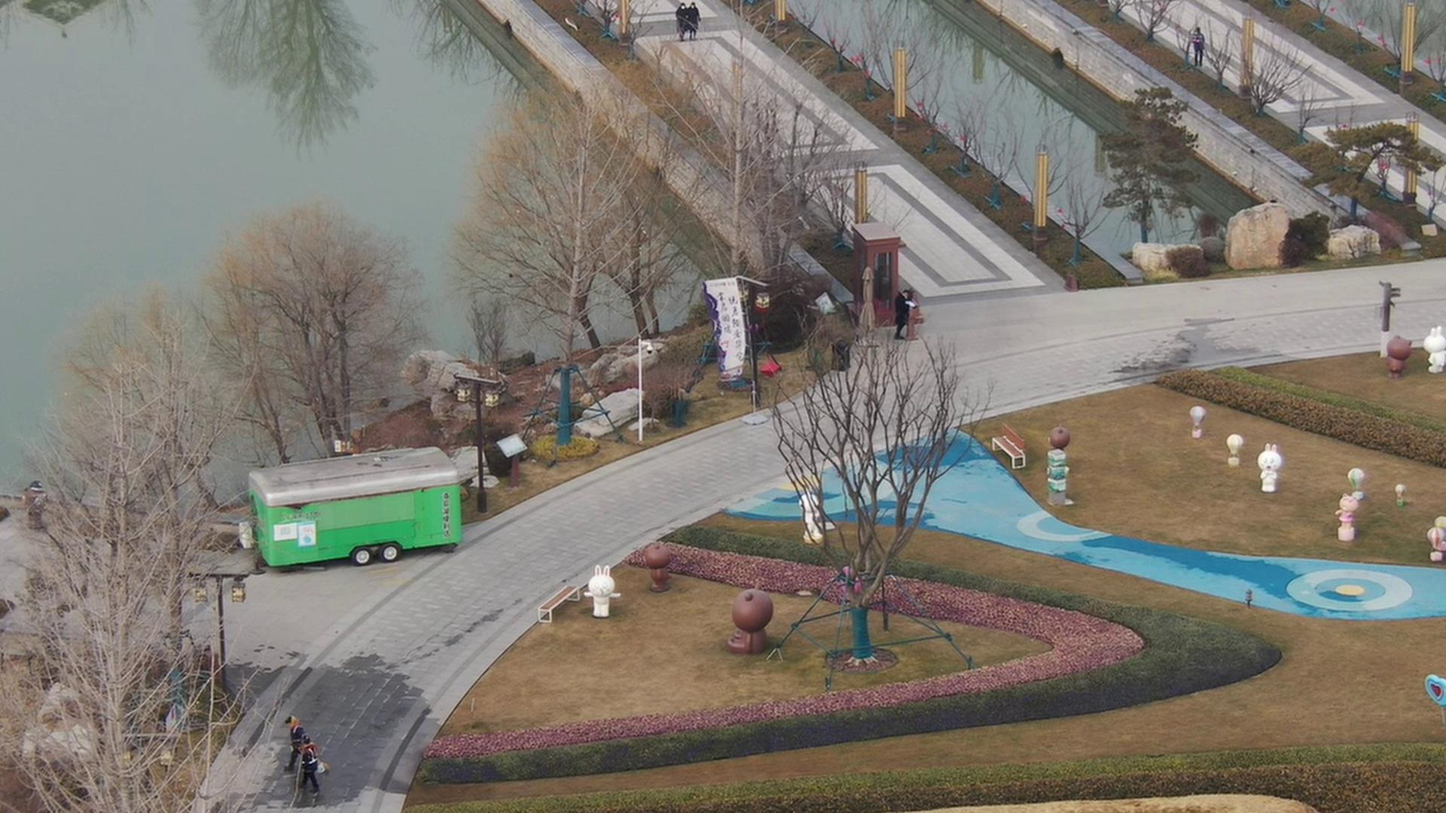class_2: (279, 708, 317, 787), (669, 1, 701, 50)
human: (886, 282, 916, 337)
